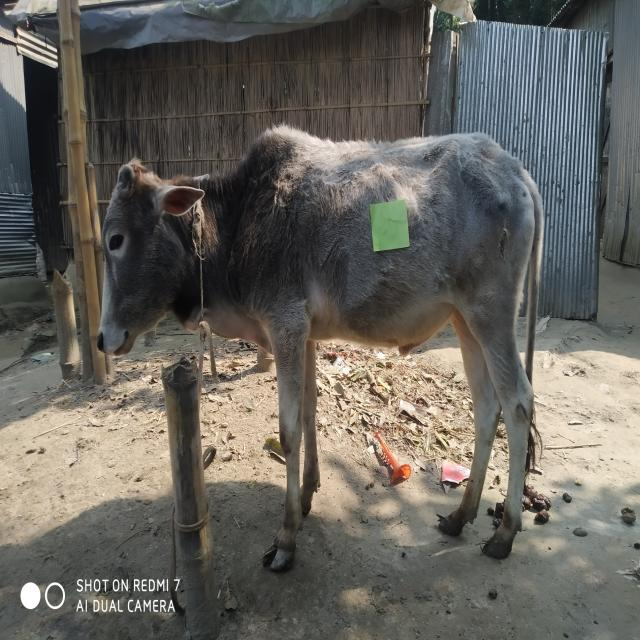badan_sapi: (265, 143, 532, 361)
sapi: (93, 121, 552, 582)
